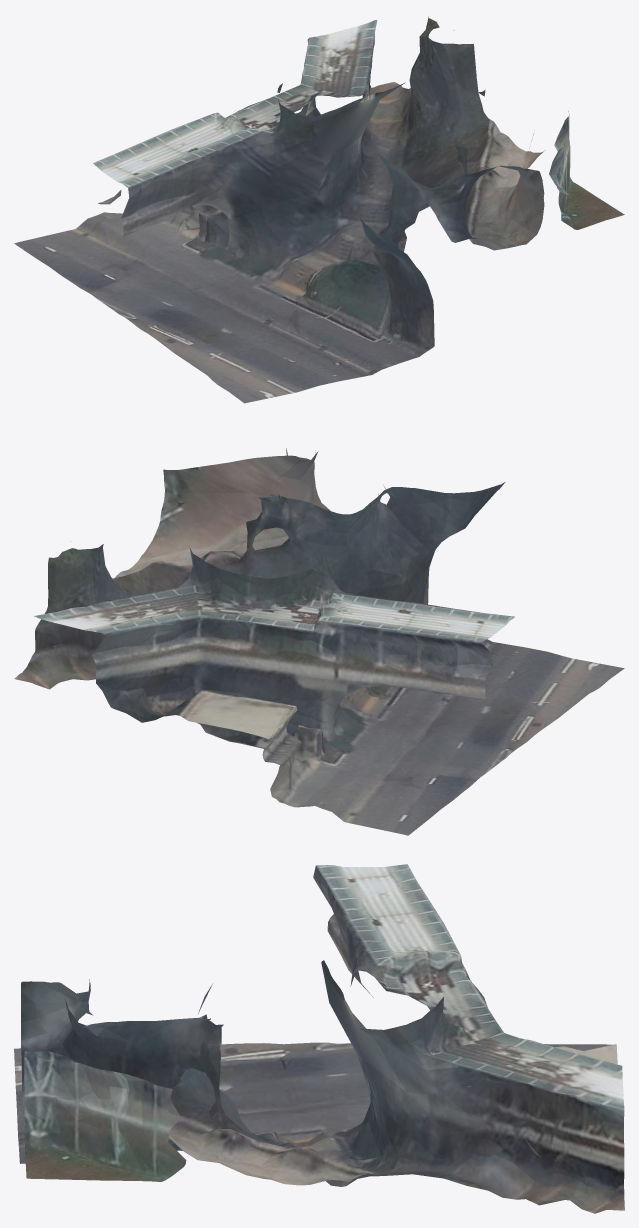
The model's file is Tile_+012_+009_L20_000003210.glb.
The picture shows the model from 3 angles, top to bottom: view 1: azimuth 30°, elevation 25°; view 2: azimuth 150°, elevation 25°; view 3: azimuth 270°, elevation 25°; orthographic projection. The views are drawn at different scales.
Parts seen in each view (by area): view 1: rtc; view 2: rtc; view 3: rtc.
Boxes of the visible parts, x1,y1,x2,y2 form: rtc: (14, 16, 624, 403); rtc: (14, 448, 624, 835); rtc: (14, 864, 624, 1213).
Bounding box in the file's own units: 32.13 × 12.59 × 32.13.
1 material, 1 textured.
